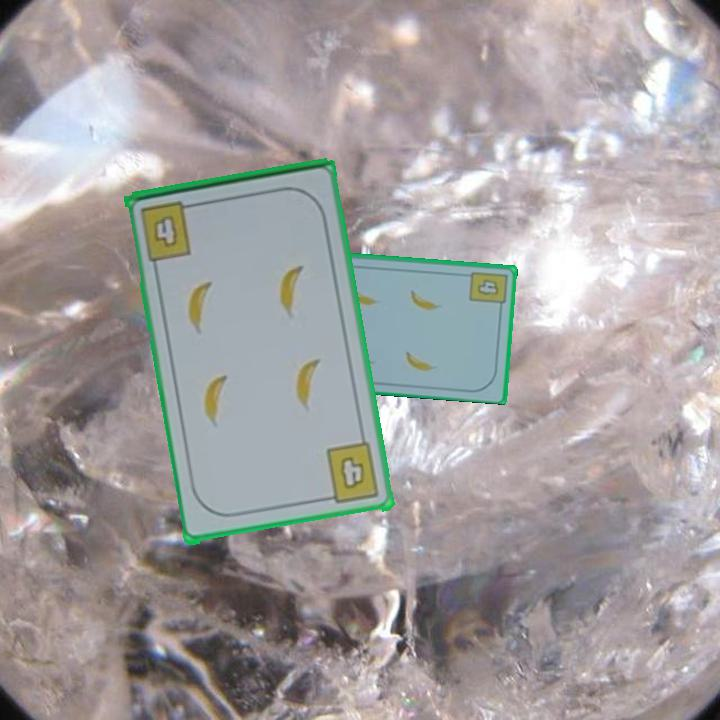4b: (319, 440, 383, 507), (137, 197, 200, 264), (466, 268, 510, 313)
